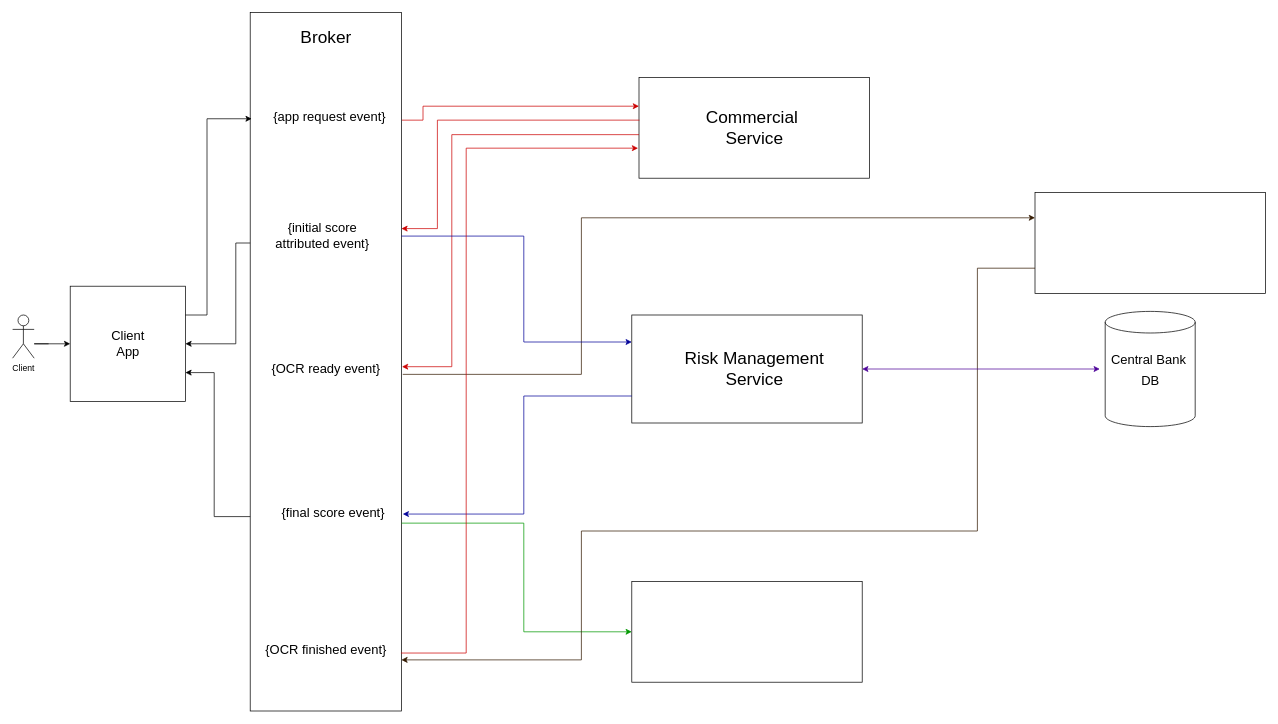
The diagram is 1278 pixels wide and 724 high, and some of its shapes have lost their labels. The shapes that lost their labels are listed below. From the top down, each one's box as (x1, y1, x2, y2) in pixels, then its label:
(1034, 192, 1265, 293): OCR
(631, 581, 862, 682): Credit Service
